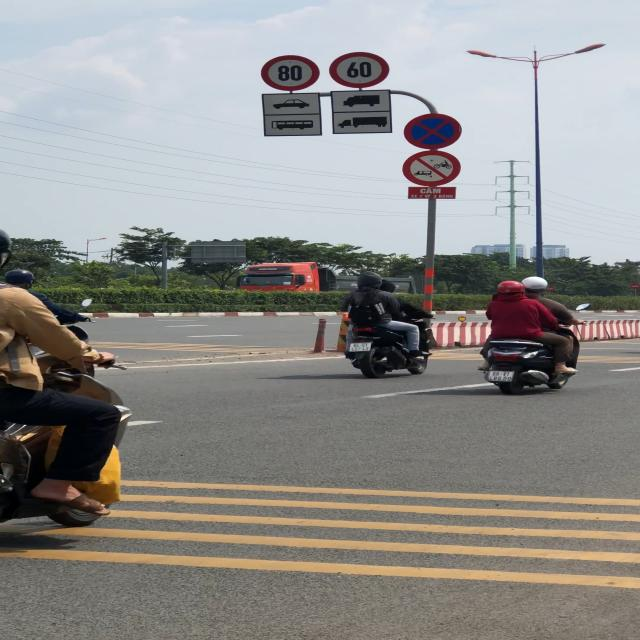Bien bao cam dung xe va do xe: (403, 112, 464, 150)
Bien bao toc do toi da cho phep: (324, 51, 396, 88), (259, 55, 321, 91)
